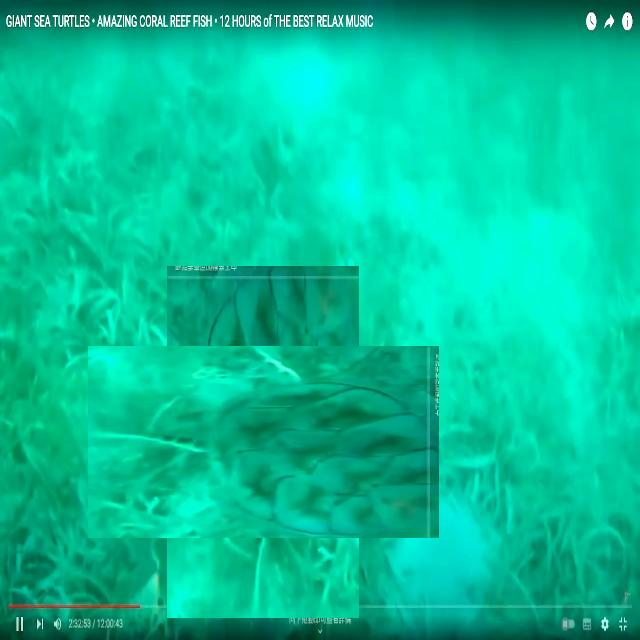Sea turtle: (127, 306, 399, 578)
